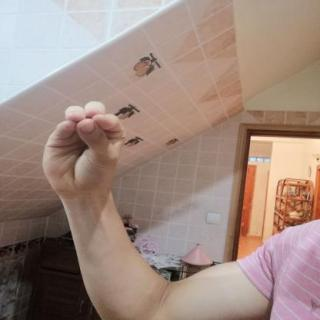HA: (32, 94, 139, 208)
